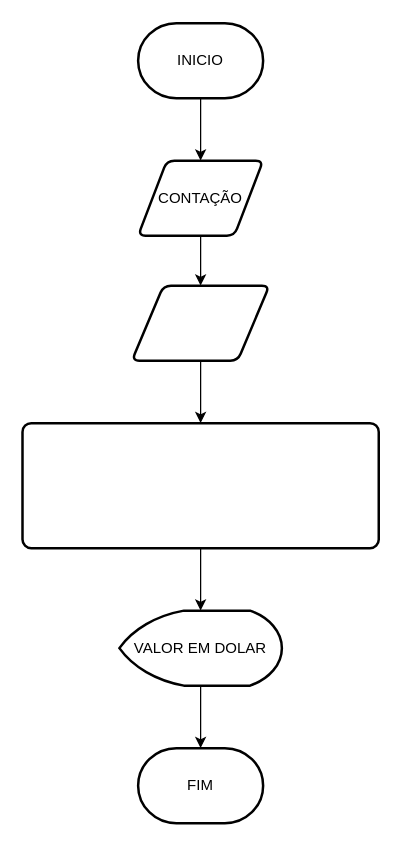
This 401x845 diagram has some shape labels left out. Each missing label, with the centre of its shape:
"VALO EM DEFAR = VALOR REAIS/COTAÇÃO" belongs at (200,485).
"VALOR REAIS" belongs at (200,322).
